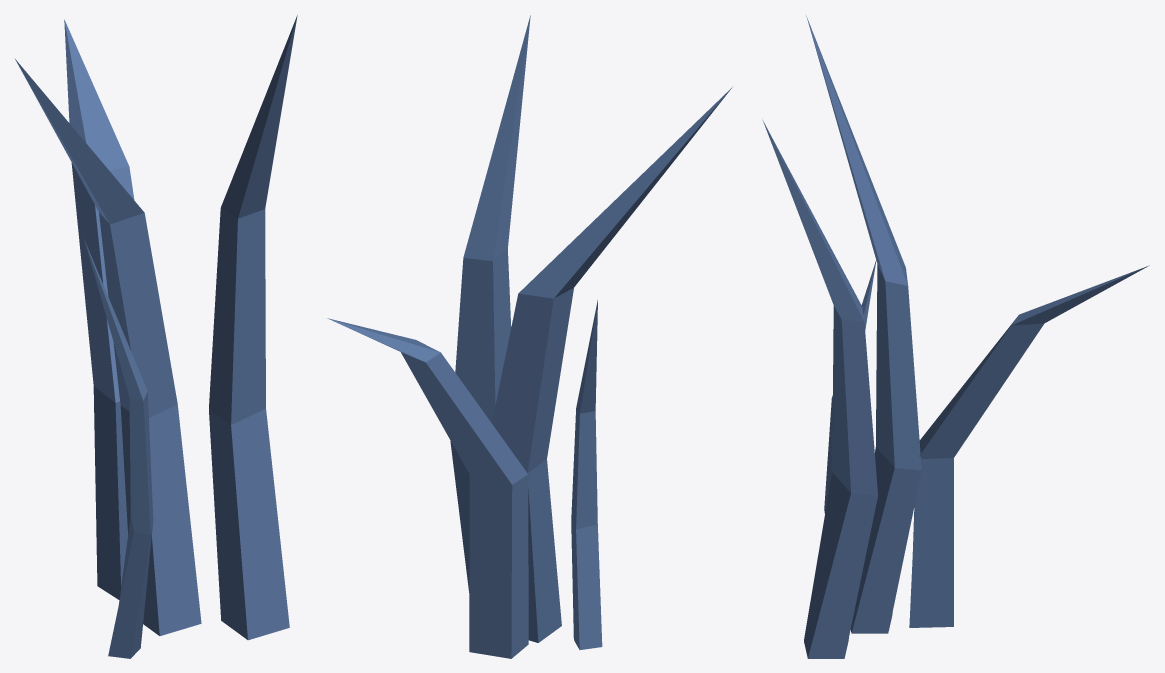
File: 01_02Grass_Blue.fbx
3 renders of one model, left to right at view 1: azimuth 30°, elevation 25°; view 2: azimuth 150°, elevation 25°; view 3: azimuth 270°, elevation 25°, orthographic. The views are drawn at different scales.
Parts seen in each view (by area): view 1: Icosphere.063; view 2: Icosphere.063; view 3: Icosphere.063.
Boxes of the visible parts, x1,y1,x2,y2 form: Icosphere.063: [15, 15, 297, 658]; Icosphere.063: [327, 15, 732, 658]; Icosphere.063: [762, 15, 1149, 658].
Bounding box in the file's own units: 30.47 × 67.63 × 44.07.
